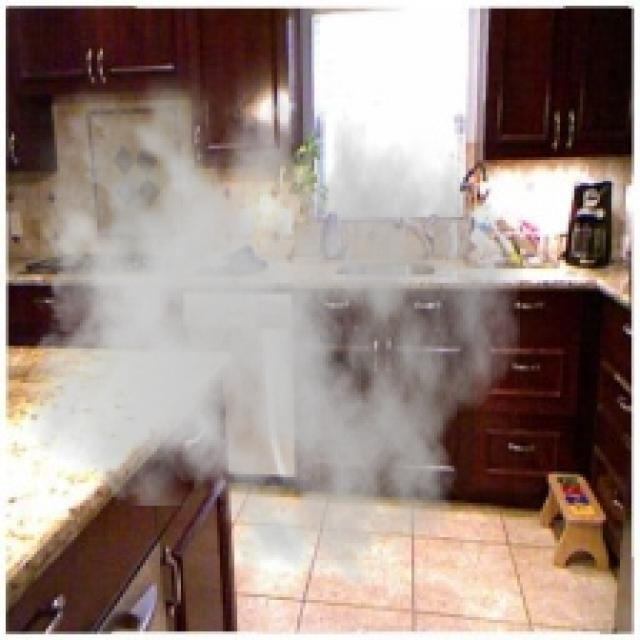smoke: (8, 51, 523, 588)
